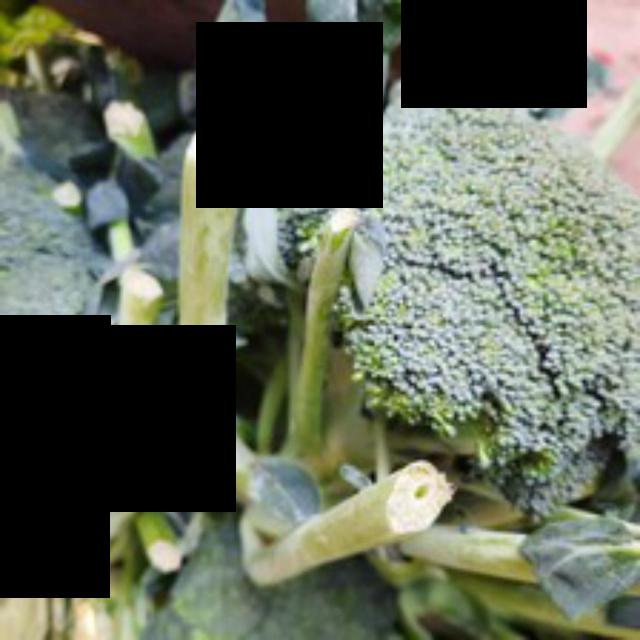broccoli: (263, 66, 637, 488)
